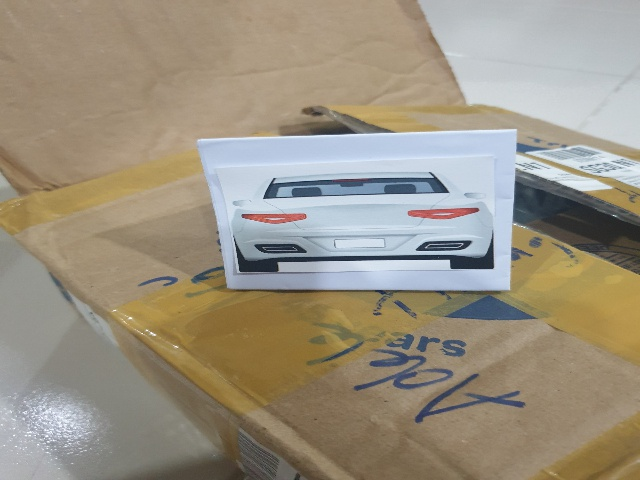Car: (229, 175, 499, 280)
